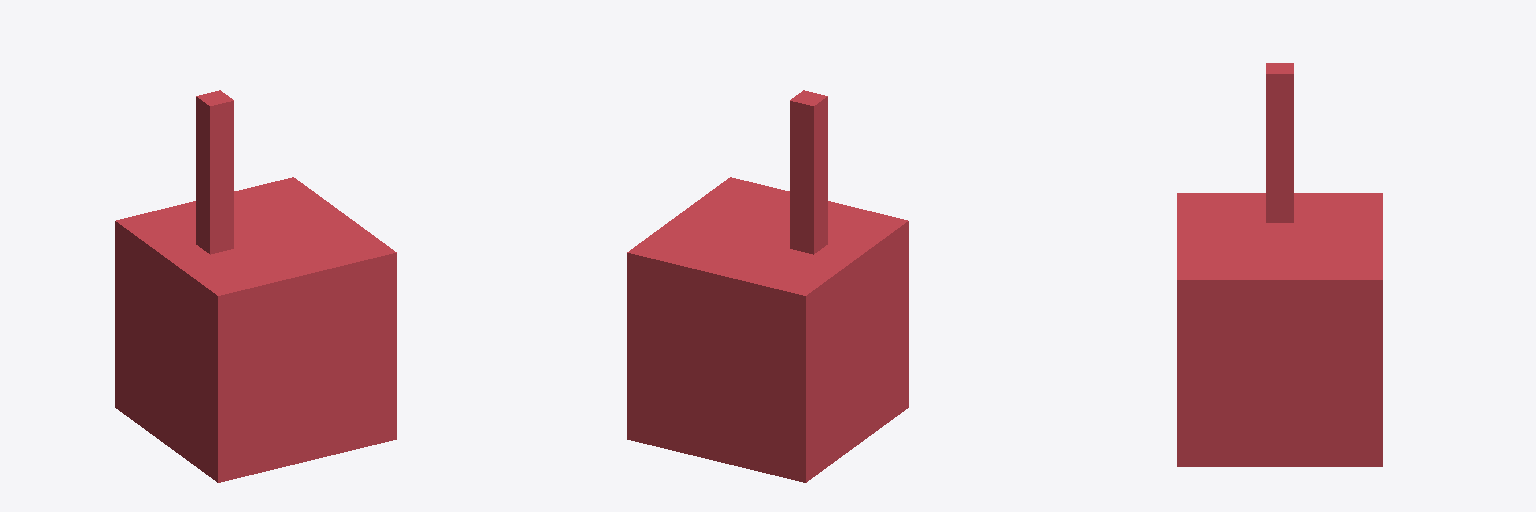
3 renders of one model, left to right at view 1: azimuth 30°, elevation 25°; view 2: azimuth 150°, elevation 25°; view 3: azimuth 270°, elevation 25°, orthographic.
Parts seen in each view (by area): view 1: 立方体.003; view 2: 立方体.003; view 3: 立方体.003.
Part boxes in pixels (left/top/right/bottom): 立方体.003: left=115, top=90, right=396, bottom=482; 立方体.003: left=627, top=90, right=908, bottom=482; 立方体.003: left=1177, top=63, right=1382, bottom=466.
Size of the model in its own units: 2 by 3.58 by 2.
Materials: 1 (1 with a texture image).